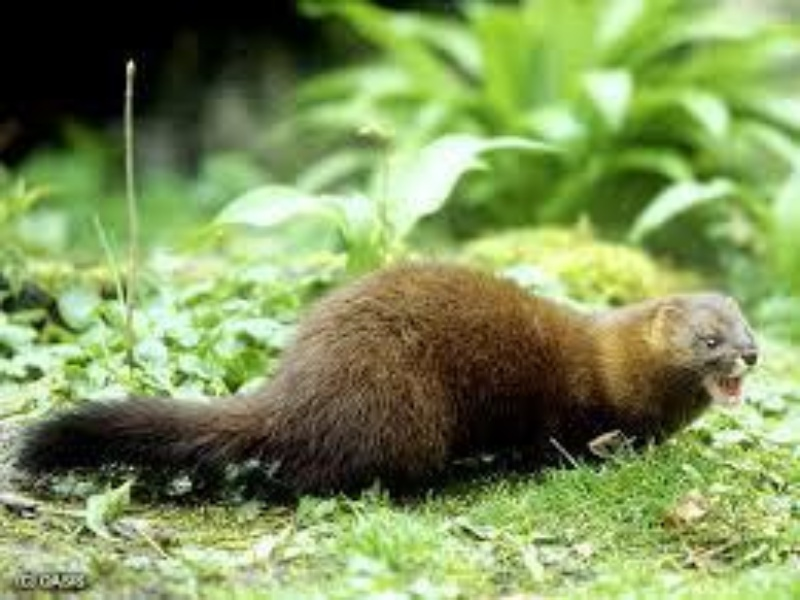minkish: (17, 254, 764, 504)
